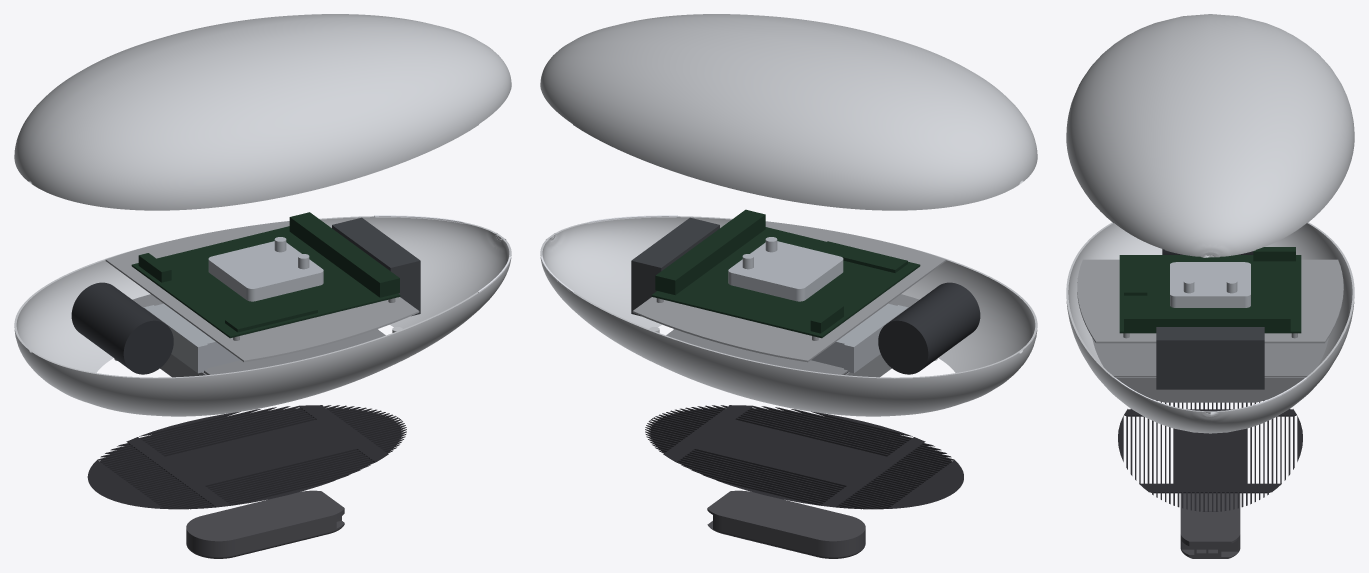
File: OVO-1_exploded.glb
3 views of the same model, side by side, from view 1: azimuth 30°, elevation 25°; view 2: azimuth 150°, elevation 25°; view 3: azimuth 270°, elevation 25° (orthographic). The views are drawn at different scales.
Visible parts, largest first — view 1: shell_upper, shell_lower, belly_plate, board, tray, keel, pump, cold_plate, psu, radiator, fan_deck; view 2: shell_upper, shell_lower, belly_plate, board, tray, keel, pump, cold_plate, psu, radiator, fan_deck; view 3: shell_upper, shell_lower, board, belly_plate, tray, psu, fan_deck, keel, cold_plate, baffles.
Part boxes in pixels (x1=…): shell_upper: x1=14, y1=14, x2=511, y2=210; shell_lower: x1=14, y1=216, x2=511, y2=416; belly_plate: x1=87, y1=405, x2=406, y2=509; board: x1=131, y1=212, x2=400, y2=338; tray: x1=105, y1=221, x2=419, y2=362; keel: x1=186, y1=490, x2=344, y2=558; pump: x1=71, y1=282, x2=173, y2=374; cold_plate: x1=208, y1=237, x2=323, y2=301; psu: x1=332, y1=217, x2=420, y2=316; radiator: x1=143, y1=303, x2=378, y2=373; fan_deck: x1=132, y1=294, x2=385, y2=374; shell_upper: x1=540, y1=14, x2=1037, y2=210; shell_lower: x1=540, y1=216, x2=1037, y2=416; belly_plate: x1=645, y1=405, x2=963, y2=509; board: x1=651, y1=209, x2=920, y2=338; tray: x1=632, y1=221, x2=946, y2=362; keel: x1=707, y1=490, x2=865, y2=558; pump: x1=878, y1=282, x2=980, y2=374; cold_plate: x1=728, y1=237, x2=843, y2=301; psu: x1=631, y1=217, x2=719, y2=316; radiator: x1=673, y1=303, x2=908, y2=373; fan_deck: x1=666, y1=294, x2=919, y2=374; shell_upper: x1=1066, y1=14, x2=1354, y2=257; shell_lower: x1=1066, y1=222, x2=1354, y2=433; board: x1=1119, y1=247, x2=1301, y2=333; belly_plate: x1=1118, y1=400, x2=1302, y2=511; tray: x1=1077, y1=259, x2=1343, y2=343; psu: x1=1156, y1=327, x2=1264, y2=389; fan_deck: x1=1092, y1=338, x2=1328, y2=377; keel: x1=1180, y1=493, x2=1240, y2=558; cold_plate: x1=1170, y1=262, x2=1250, y2=307; baffles: x1=1115, y1=377, x2=1305, y2=402.
Size of the model in its own units: 470 by 472 by 270.
